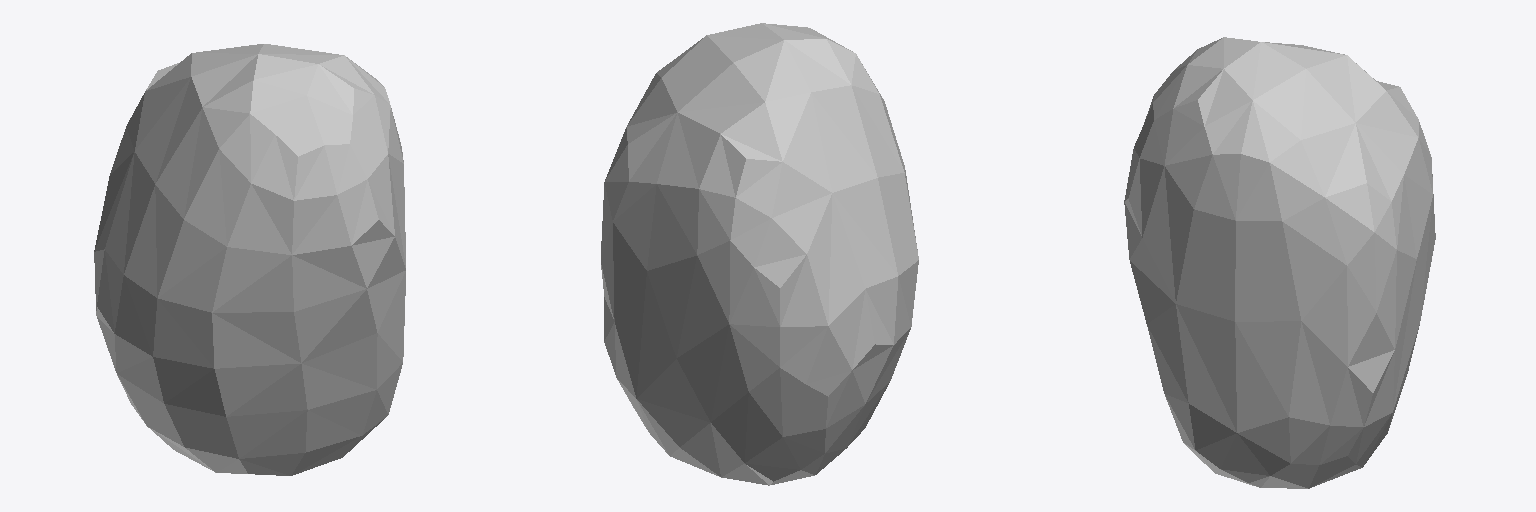
File: rock2.obj
3 renders of one model, left to right at view 1: azimuth 30°, elevation 25°; view 2: azimuth 150°, elevation 25°; view 3: azimuth 270°, elevation 25°, orthographic.
Parts seen in each view (by area): view 1: F2:GeoDome3; view 2: F2:GeoDome3; view 3: F2:GeoDome3.
Boxes of the visible parts, x1=… form: F2:GeoDome3: x1=94, y1=44, x2=405, y2=475; F2:GeoDome3: x1=601, y1=23, x2=918, y2=485; F2:GeoDome3: x1=1124, y1=37, x2=1435, y2=488.
Bounding box in the file's own units: 1.72 × 2.59 × 1.73.